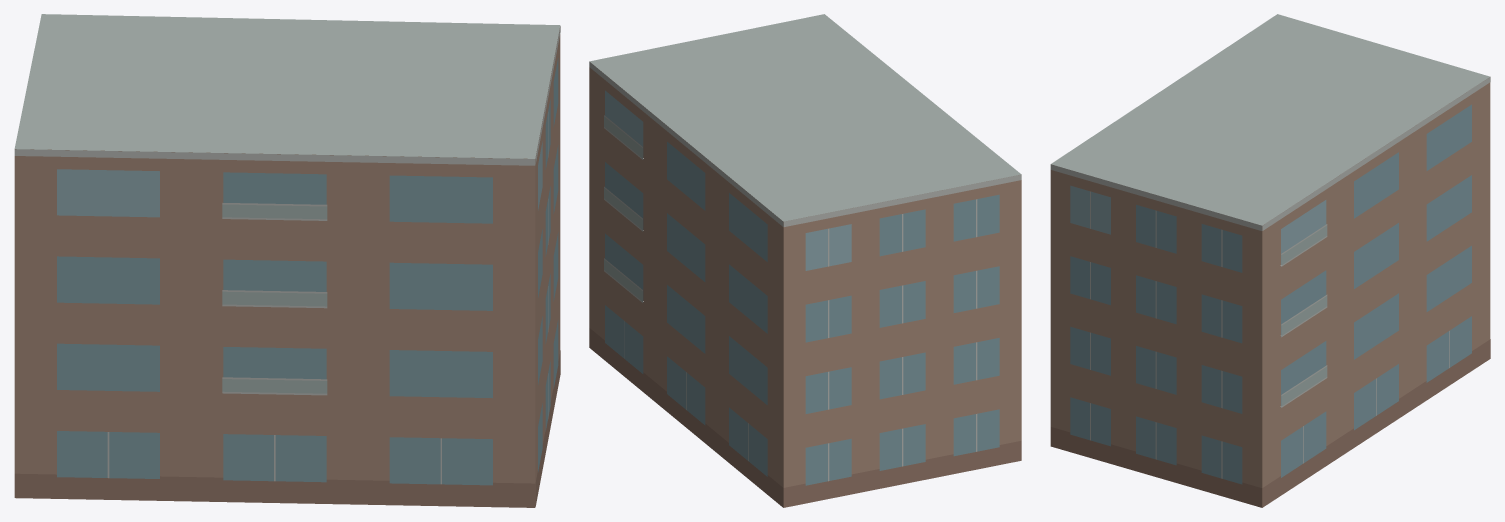
File: survey-upis-32780080.glb
3 views of the same model, side by side, from view 1: azimuth 30°, elevation 25°; view 2: azimuth 150°, elevation 25°; view 3: azimuth 270°, elevation 25° (orthographic). The views are drawn at different scales.
Visible parts, largest first — view 1: survey-upis-32780080.tmp; view 2: survey-upis-32780080.tmp; view 3: survey-upis-32780080.tmp.
Part boxes in pixels (left/top/right/bottom): survey-upis-32780080.tmp: left=14, top=14, right=560, bottom=507; survey-upis-32780080.tmp: left=589, top=14, right=1021, bottom=507; survey-upis-32780080.tmp: left=1050, top=14, right=1490, bottom=507.
Bounding box in the file's own units: 19.96 × 12.4 × 17.52.
